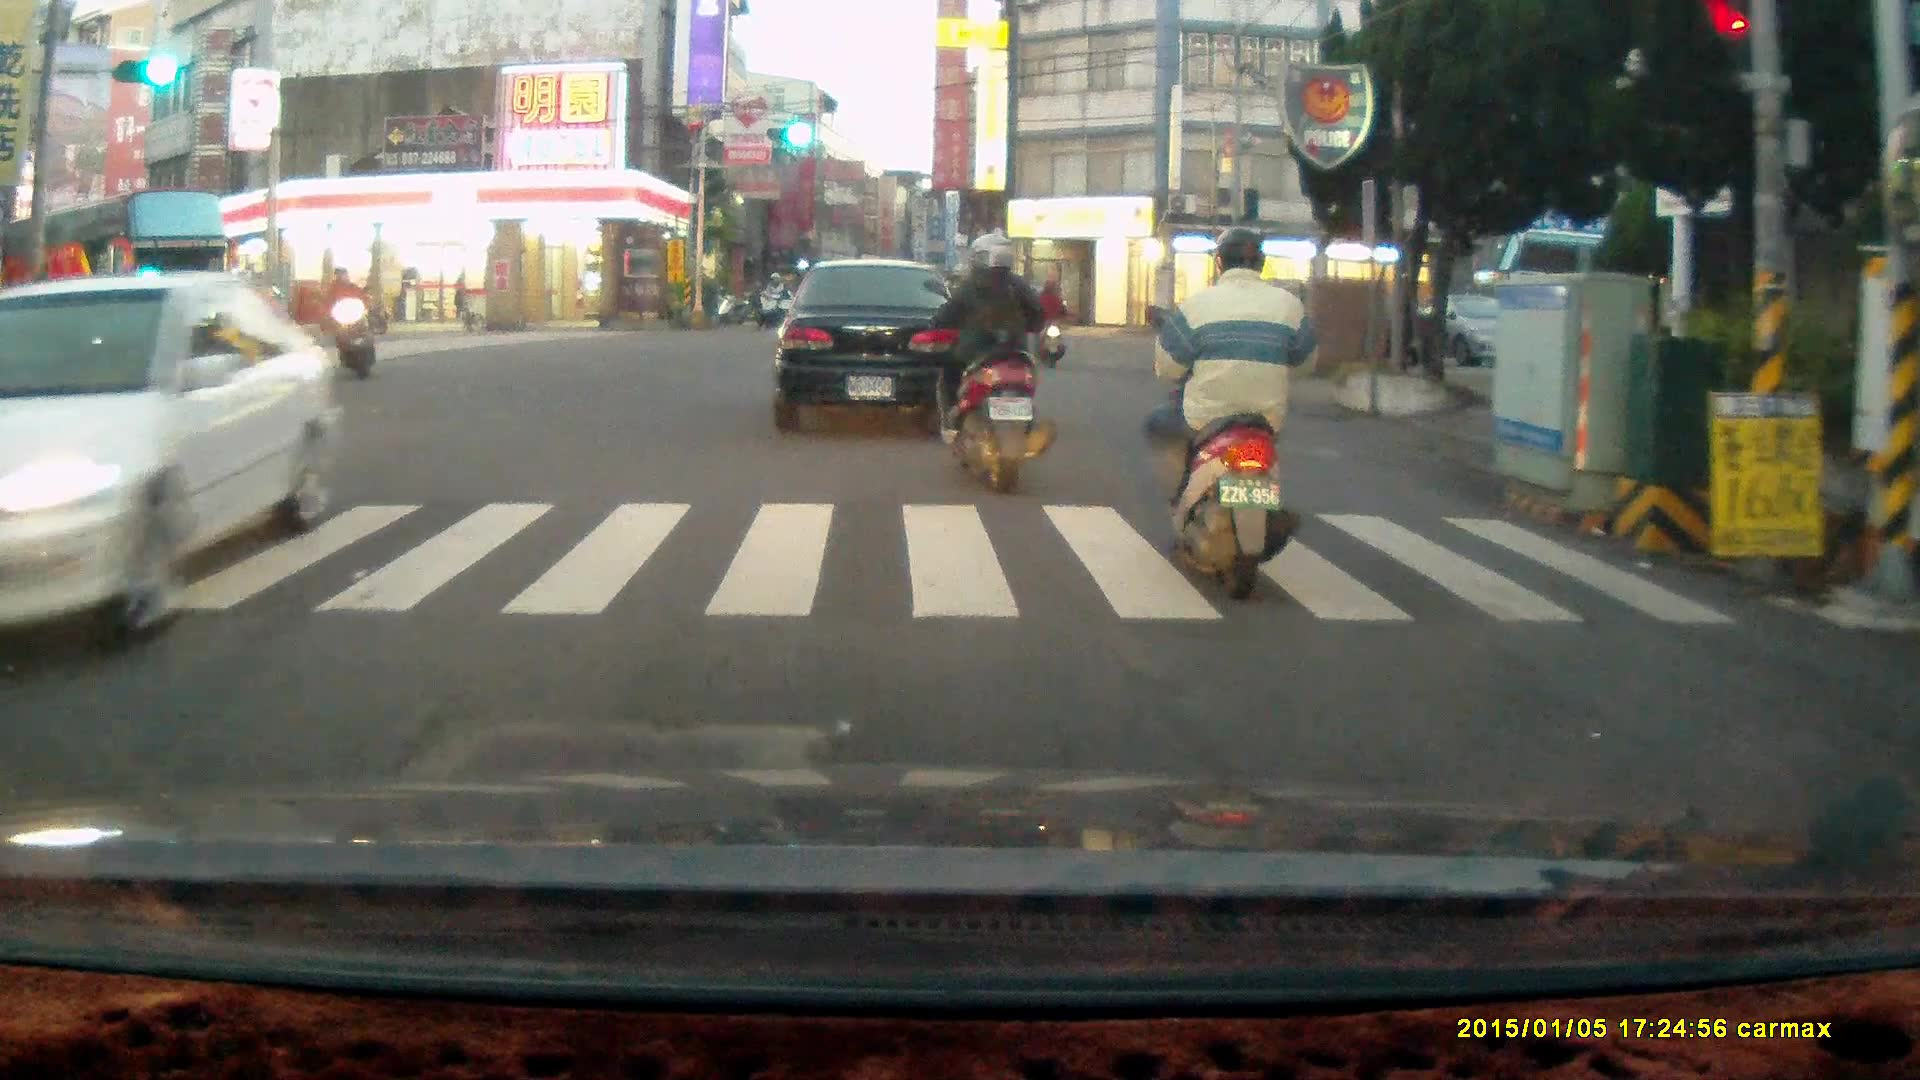rider: (1140, 225, 1305, 602), (923, 229, 1060, 496), (320, 266, 375, 381), (1022, 278, 1070, 371), (754, 271, 785, 328)
vehicle: (3, 272, 334, 690), (11, 189, 233, 354)
